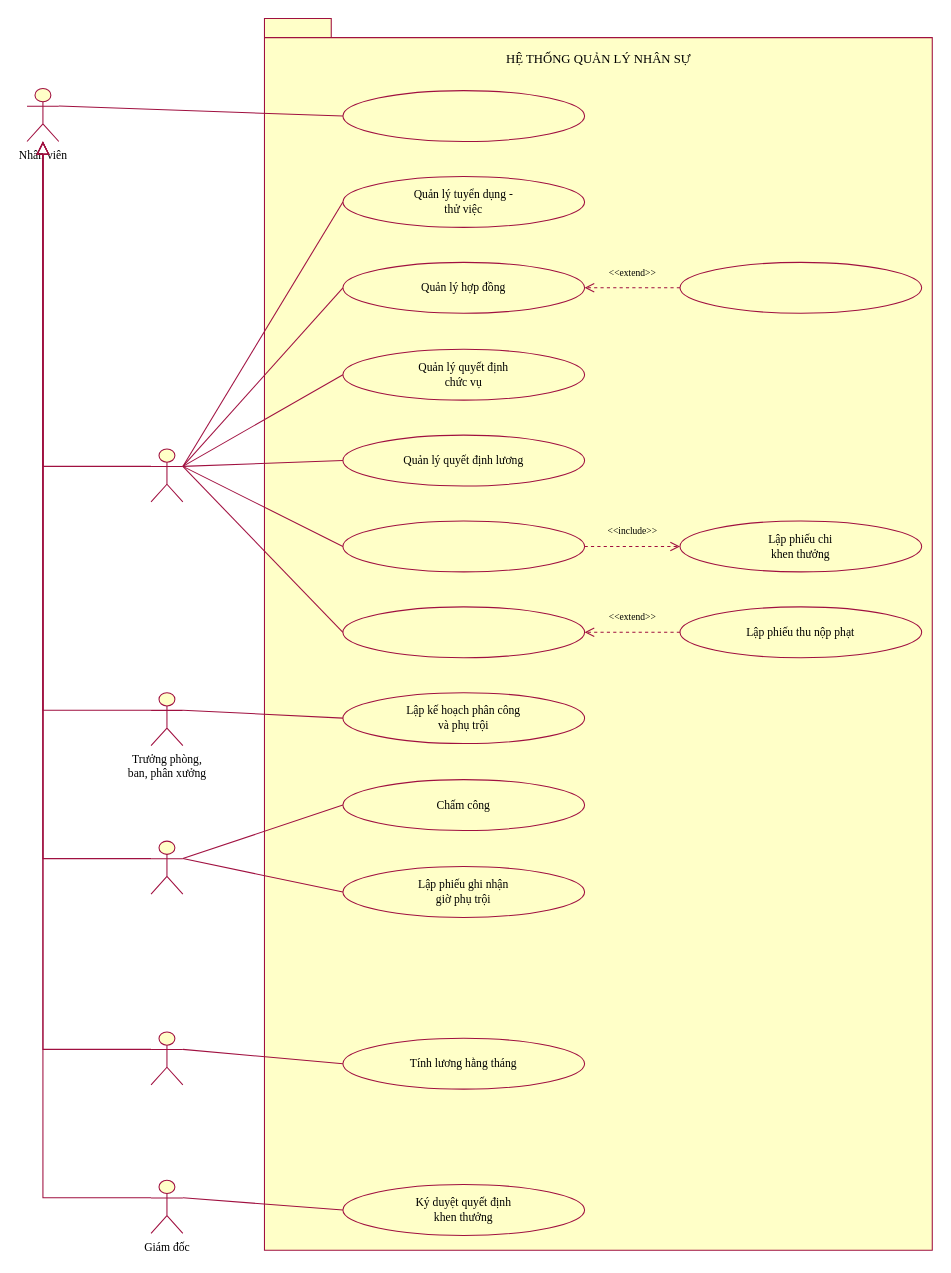
Some shapes in this 951 by 1273 pixel diagram are drawn without their labels. The box of each missing label's shape, as (x1, y1, x2, y2) in pixels:
Ban chấm công: (150, 840, 183, 894)
Lập hồ sơ bảo hiểm: (679, 261, 922, 313)
Nhân viên nhân sự: (150, 448, 183, 502)
Nhân viên tính lương: (150, 1031, 183, 1085)
Quản lý danh mục: (342, 90, 585, 142)
Quản lý khen thưởng: (342, 520, 585, 572)
Quản lý kỷ luật: (342, 606, 585, 658)
